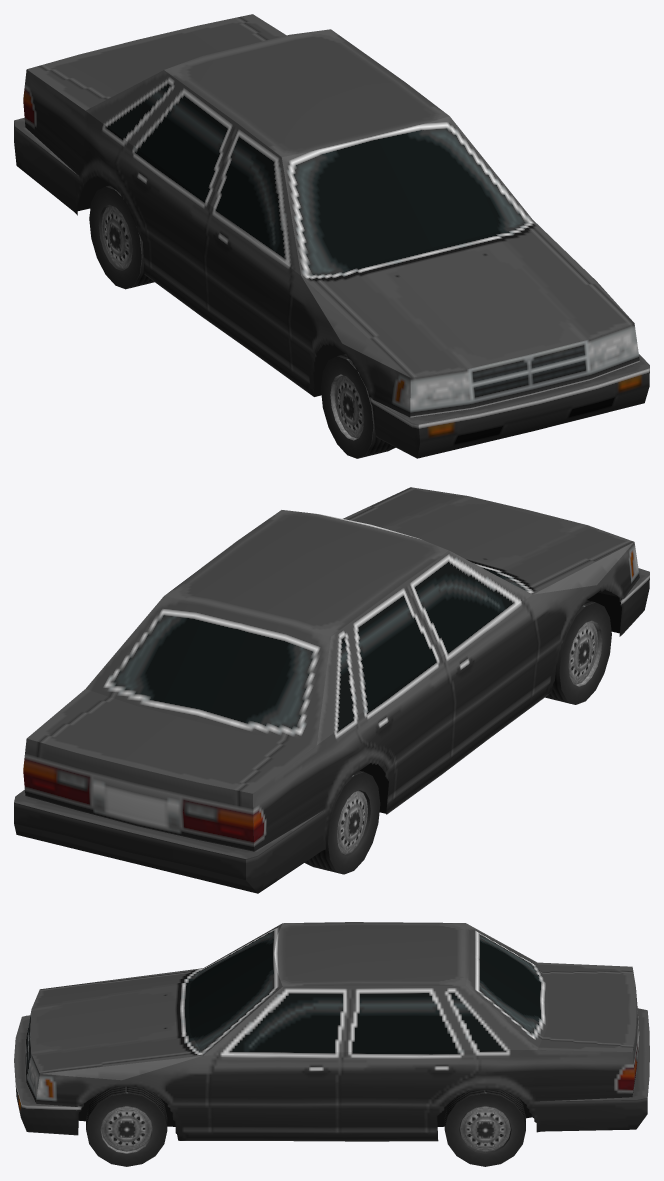
Rendered from nissan.fbx.
3 renders of one model, top to bottom at view 1: azimuth 30°, elevation 25°; view 2: azimuth 150°, elevation 25°; view 3: azimuth 270°, elevation 25°, orthographic. The views are drawn at different scales.
Parts seen in each view (by area): view 1: Cube, Cylinder; view 2: Cube, Cylinder; view 3: Cube, Cylinder.
Part boxes in pixels (x1,y1,x2,y2): Cube: (14, 14, 649, 458); Cylinder: (89, 185, 395, 458); Cube: (14, 487, 649, 893); Cylinder: (304, 600, 611, 874); Cube: (14, 922, 649, 1141); Cylinder: (86, 1086, 525, 1166).
Size of the model in its own units: 102 by 84.87 by 285.
1 material, 1 textured.
